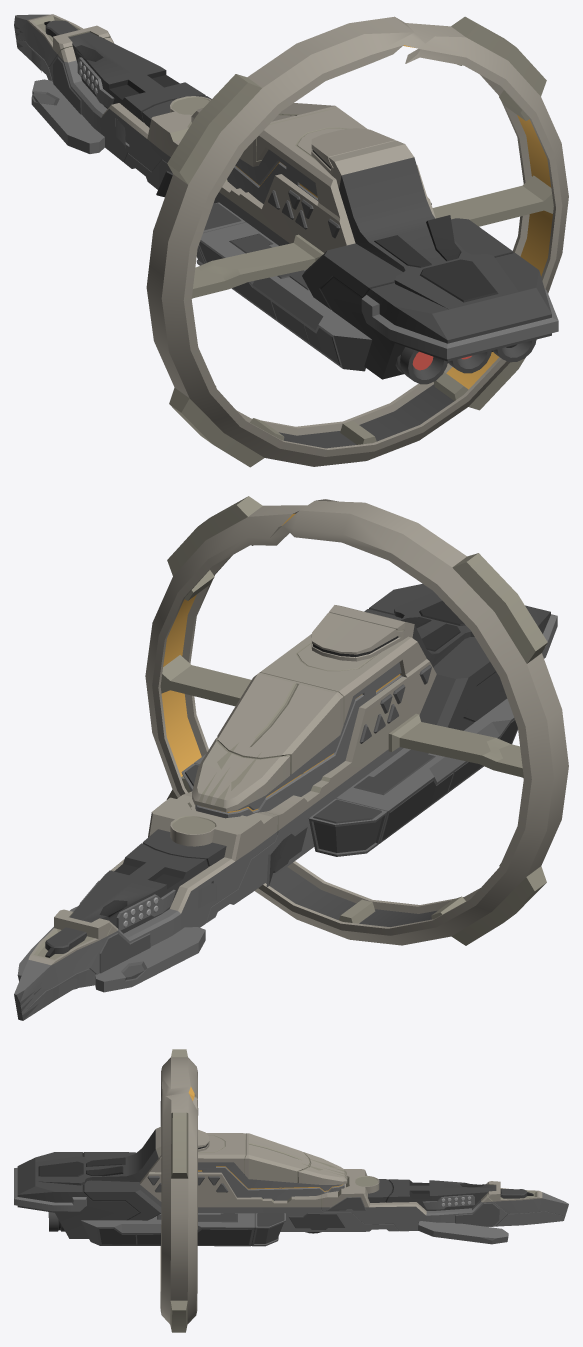
The picture shows the model from 3 angles, top to bottom: view 1: azimuth 30°, elevation 25°; view 2: azimuth 150°, elevation 25°; view 3: azimuth 270°, elevation 25°; orthographic projection. The views are drawn at different scales.
Visible parts, largest first — view 1: Circle.002, wBox.022, wBox.024, wBox.020, wBox.031, wTube.005, wBox.023, wBox.035, wBox.034, wBox.030, wBox.036, wBox.029; view 2: Circle.002, wBox.022, wBox.020, wBox.024, wBox.023, wBox.034, wBox.035, wBox.036, wBox.033, wBox.029, wBox.030; view 3: wBox.022, Circle.002, wBox.020, wBox.024, wBox.023, wBox.035, wBox.031, wBox.033, wBox.036, wBox.034, wBox.029, wBox.032.
Boxes of the visible parts, box(x1,y1,x2,y2) form: Circle.002: box(146, 16, 568, 467); wBox.022: box(14, 14, 551, 379); wBox.024: box(311, 128, 518, 309); wBox.020: box(31, 79, 372, 371); wBox.031: box(361, 289, 558, 359); wTube.005: box(395, 339, 536, 384); wBox.023: box(227, 149, 318, 203); wBox.035: box(199, 242, 340, 364); wBox.034: box(204, 203, 309, 290); wBox.030: box(268, 190, 431, 238); wBox.036: box(53, 57, 81, 114); wBox.029: box(77, 57, 114, 107); Circle.002: box(145, 496, 568, 945); wBox.022: box(14, 583, 550, 1020); wBox.020: box(17, 698, 517, 992); wBox.024: box(311, 592, 474, 667); wBox.023: box(195, 662, 402, 818); wBox.034: box(185, 749, 435, 823); wBox.035: box(382, 719, 517, 840); wBox.036: box(99, 933, 150, 973); wBox.033: box(266, 825, 307, 886); wBox.029: box(80, 880, 175, 930); wBox.030: box(359, 665, 431, 743); wBox.022: box(17, 1133, 568, 1239); Circle.002: box(160, 1049, 198, 1332); wBox.020: box(80, 1213, 508, 1246); wBox.024: box(35, 1127, 209, 1185); wBox.023: box(198, 1162, 344, 1200); wBox.035: box(99, 1228, 251, 1244); wBox.031: box(14, 1167, 86, 1211); wBox.033: box(288, 1213, 346, 1229); wBox.036: box(455, 1203, 499, 1226); wBox.034: box(157, 1213, 284, 1226); wBox.029: box(423, 1195, 474, 1209); wBox.032: box(326, 1197, 366, 1210).
Bounding box in the file's own units: 2668 × 2669 × 5511.
